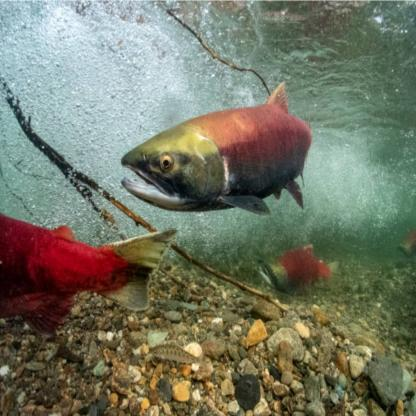sockeye: (122, 87, 304, 213), (255, 236, 342, 299)
